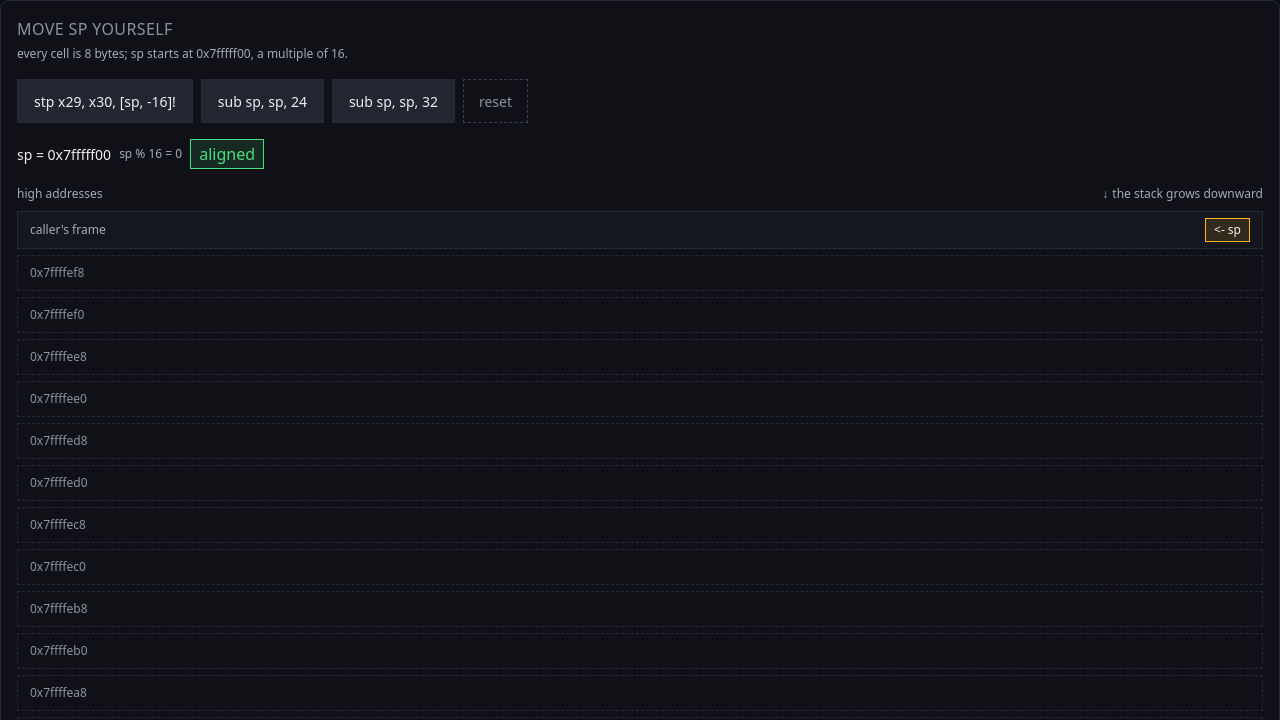
Test: StackAlignment › sub sp, sp, 32 keeps sp on a 16-byte boundary
The width and height of the screenshot is (1280, 720).
What coordinates should you click on to do the following:
click the button "sub sp, sp, 32"
I would click on:
 (393, 101)
Its box is [332,79,455,123].
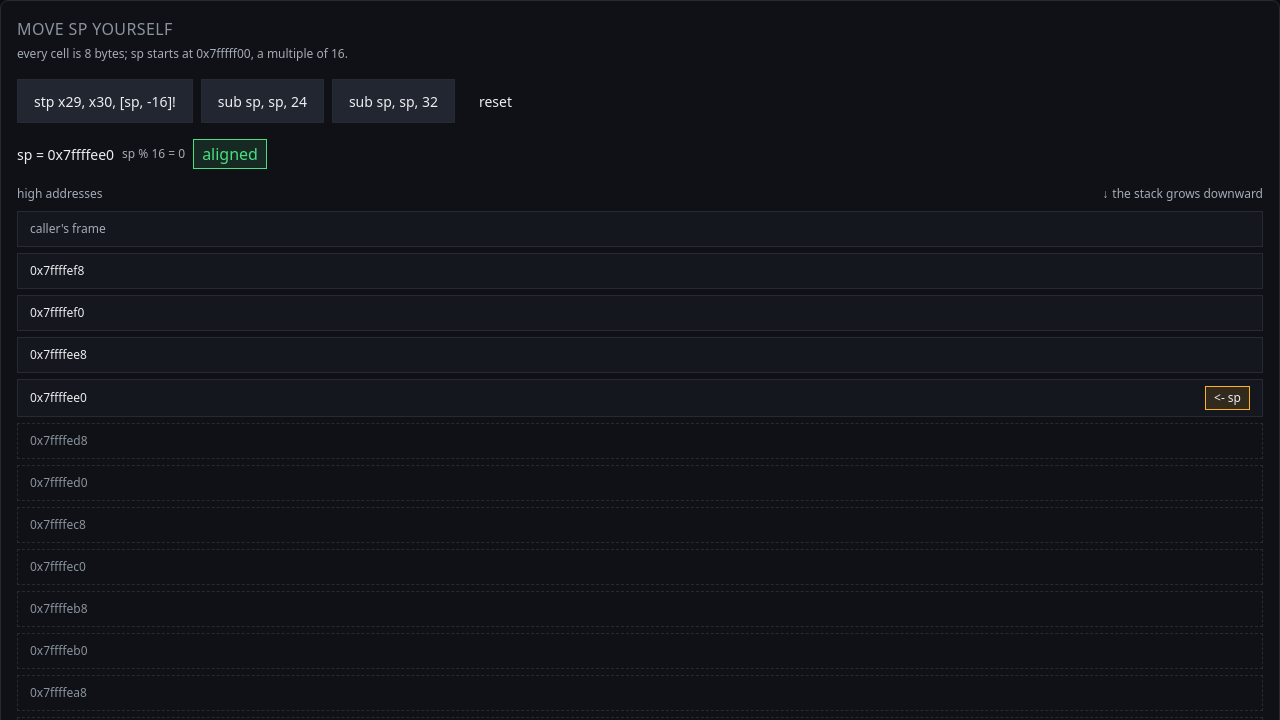
Expected: the text "aligned" is shown, [193,139,267,169]
Expected: the text "sp = 0x7ffffee0" is shown, [17,144,114,164]
